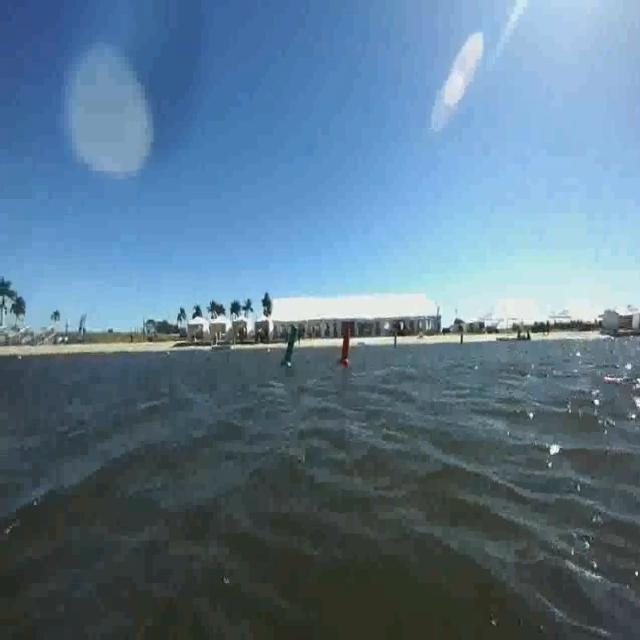green-column-buoy: (281, 326, 299, 369)
red-column-buoy: (334, 314, 354, 371)
